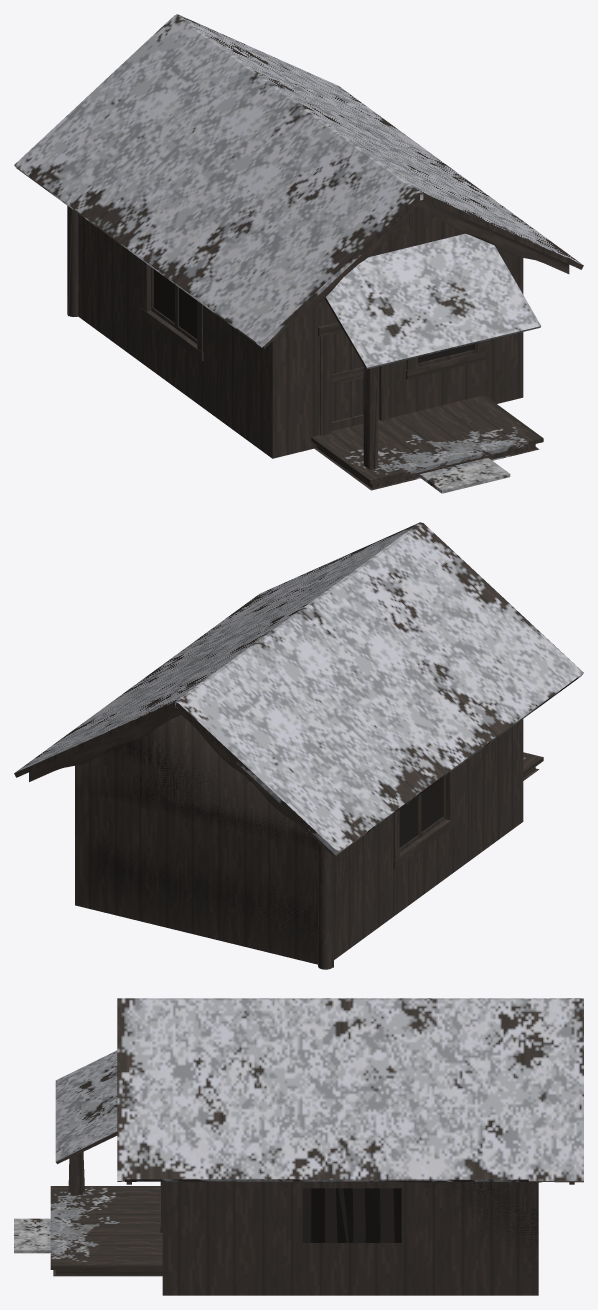
The model's file is AbandonedInn.fbx.
3 views of the same model, one above another, from view 1: azimuth 30°, elevation 25°; view 2: azimuth 150°, elevation 25°; view 3: azimuth 270°, elevation 25° (orthographic). The views are drawn at different scales.
Visible parts, largest first — view 1: AbandonedInn, AbandonedInnLowPoly; view 2: AbandonedInn, AbandonedInnLowPoly; view 3: AbandonedInn, AbandonedInnLowPoly.
Boxes of the visible parts, <box> form: AbandonedInn: <box>14,14,583,493</box>; AbandonedInnLowPoly: <box>15,14,565,490</box>; AbandonedInn: <box>14,522,583,969</box>; AbandonedInnLowPoly: <box>29,675,581,967</box>; AbandonedInn: <box>14,998,583,1295</box>; AbandonedInnLowPoly: <box>53,998,583,1295</box>.
Bounding box in the file's own units: 7.16 × 5.3 × 11.46.
